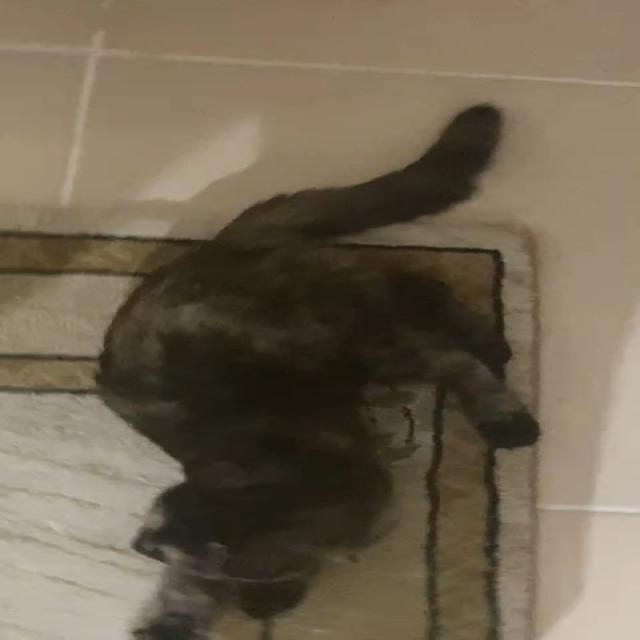authorized: (92, 101, 540, 638)
